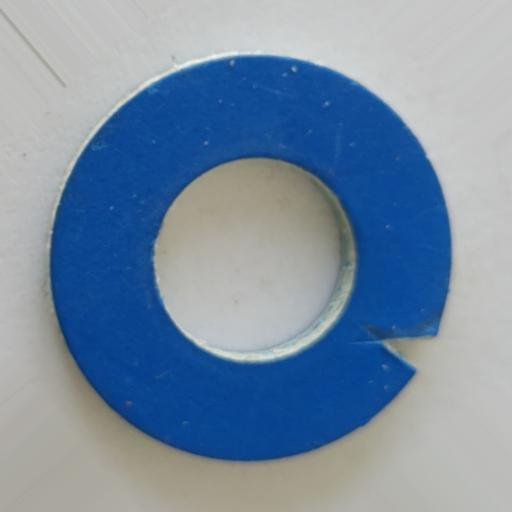defect: (379, 323, 438, 372)
